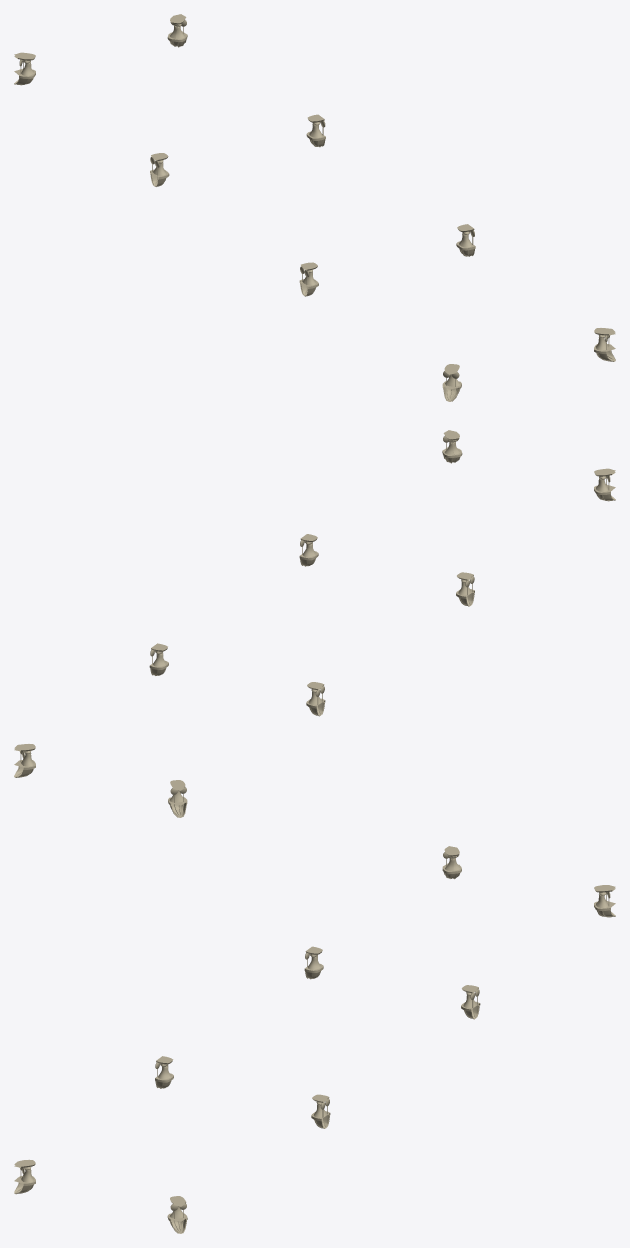
File: corniches.fbx
The picture shows the model from 3 angles, top to bottom: view 1: azimuth 30°, elevation 25°; view 2: azimuth 150°, elevation 25°; view 3: azimuth 330°, elevation 25°; orthographic projection.
Parts seen in each view (by area): view 1: corniche_piece; view 2: corniche_piece; view 3: corniche_piece.
Boxes of the visible parts, <box> form: corniche_piece: <box>14,14,615,401</box>; corniche_piece: <box>14,430,615,817</box>; corniche_piece: <box>14,846,615,1233</box>.
Bounding box in the file's own units: 135 × 22.06 × 603.
